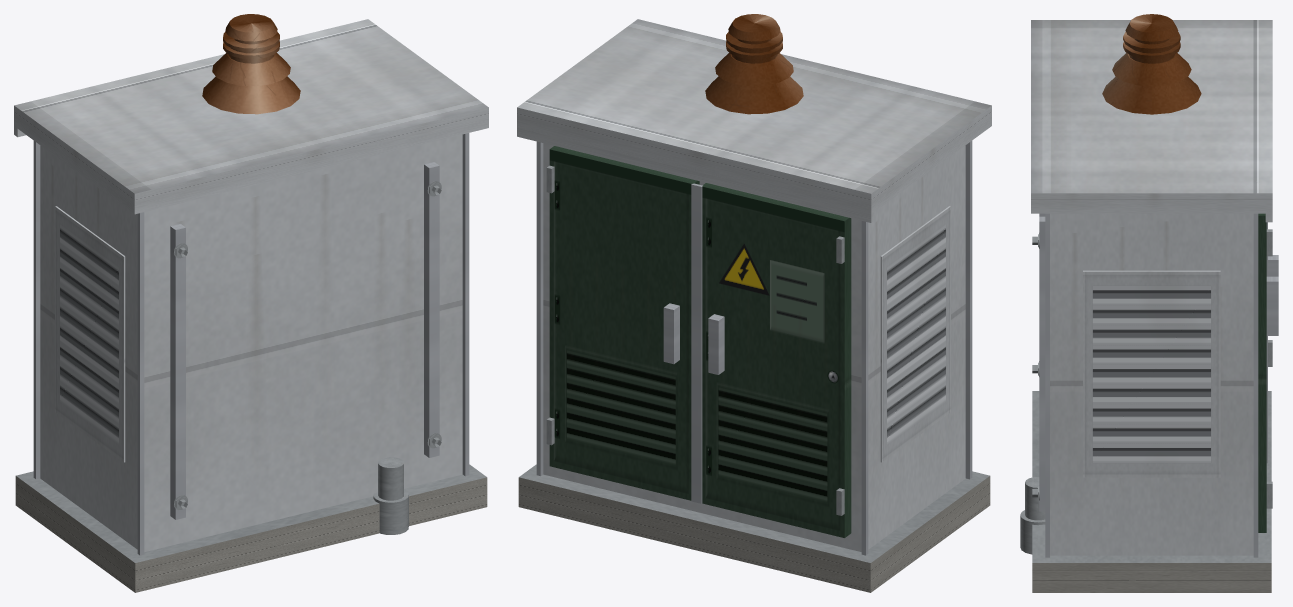
The model's file is power_box.obj.
3 renders of one model, left to right at view 1: azimuth 30°, elevation 25°; view 2: azimuth 150°, elevation 25°; view 3: azimuth 270°, elevation 25°, orthographic.
Parts seen in each view (by area): view 1: body, hood, plinth, vent, insulator, conduit; view 2: door, hood, body, plinth, vent, insulator; view 3: body, hood, vent, plinth, insulator, door, conduit.
Boxes of the visible parts, <box> form: body: <box>33,133,469,555</box>; hood: <box>14,19,488,214</box>; plinth: <box>15,464,487,592</box>; vent: <box>55,206,125,462</box>; insulator: <box>202,14,300,114</box>; conduit: <box>373,457,408,534</box>; door: <box>546,146,851,537</box>; hood: <box>517,19,991,222</box>; body: <box>536,141,972,555</box>; plinth: <box>518,464,990,592</box>; vent: <box>880,206,950,462</box>; insulator: <box>705,14,803,114</box>; body: <box>1032,213,1267,557</box>; hood: <box>1031,20,1272,222</box>; vent: <box>1083,270,1220,477</box>; plinth: <box>1032,391,1271,592</box>; insulator: <box>1102,14,1201,114</box>; door: <box>1258,213,1278,532</box>; conduit: <box>1020,477,1045,554</box>.
Size of the model in its own units: 0.684 by 0.8915 by 0.432.
